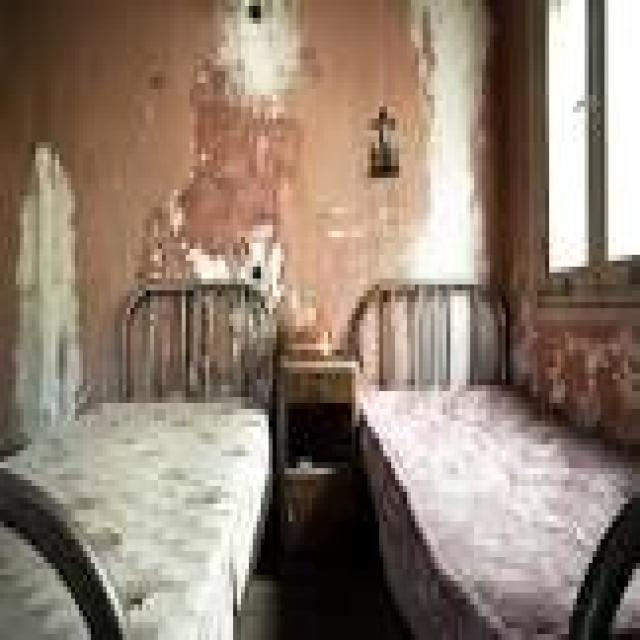mess: (0, 6, 573, 267), (514, 294, 640, 427)
